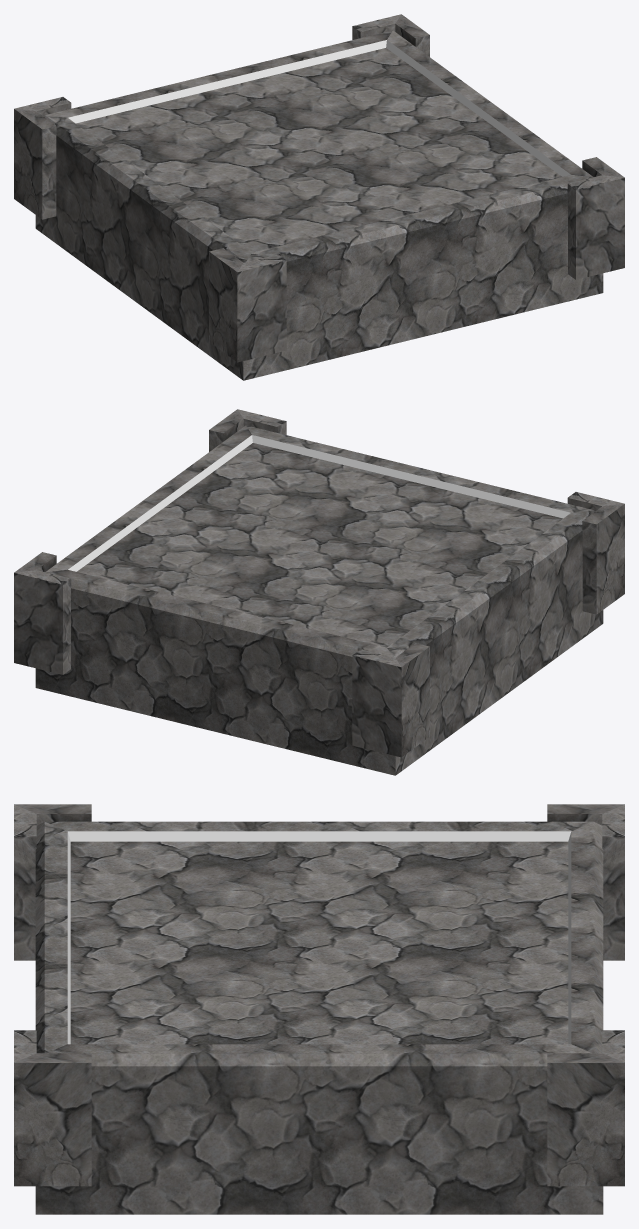
The model's file is board.glb.
3 views of the same model, one above another, from view 1: azimuth 30°, elevation 25°; view 2: azimuth 150°, elevation 25°; view 3: azimuth 270°, elevation 25° (orthographic). The views are drawn at different scales.
Parts seen in each view (by area): view 1: Plane.001; view 2: Plane.001; view 3: Plane.001.
Boxes of the visible parts, x1,y1,x2,y2 form: Plane.001: [14, 14, 624, 380]; Plane.001: [14, 409, 624, 775]; Plane.001: [14, 804, 624, 1214].
Bounding box in the file's own units: 12.3 × 3.57 × 12.28.
2 materials, 1 textured.
